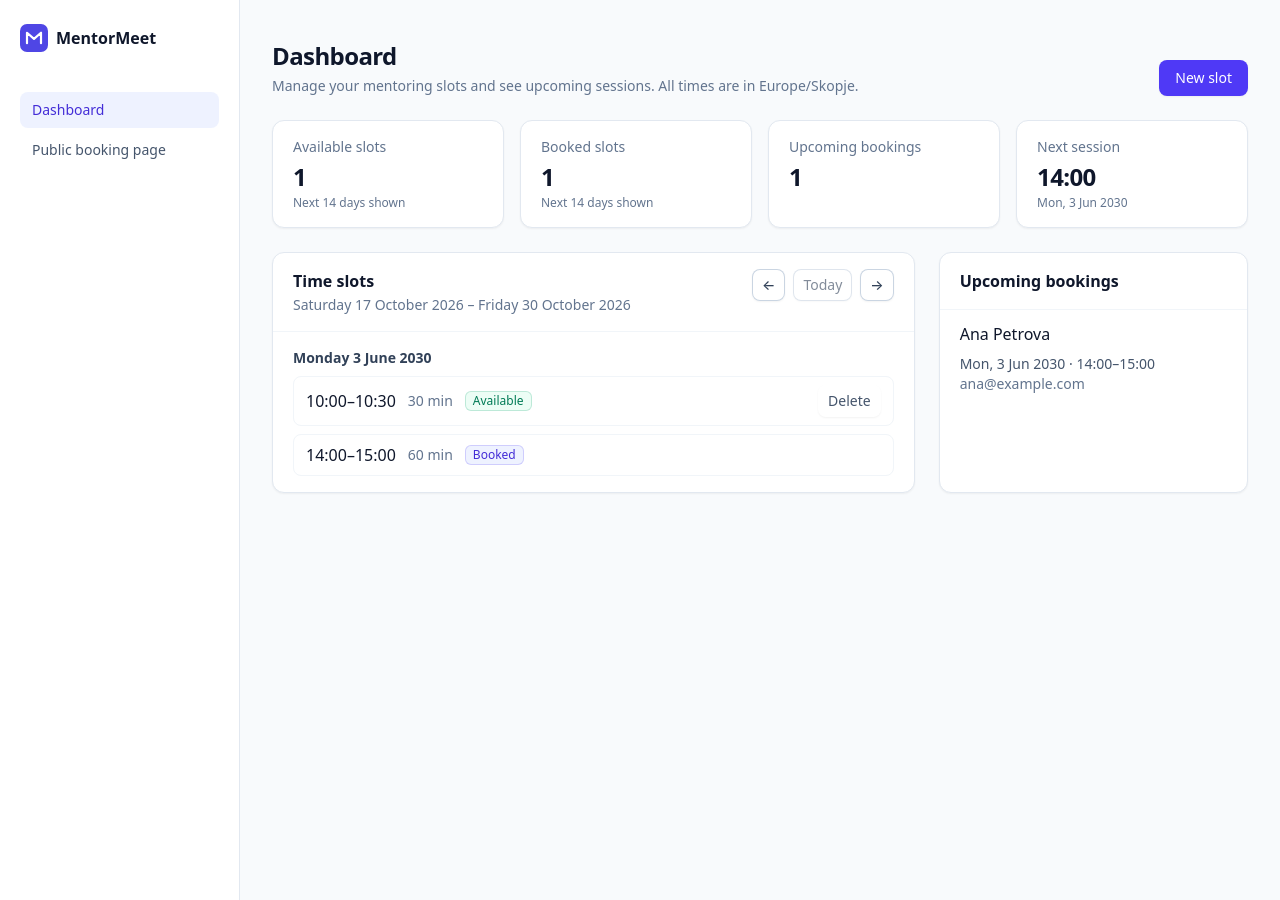
Test: DashboardPage › deletes an available slot after confirmation
This screenshot has width=1280, height=900.
Expected: the text "10:00–10:30" is shown, [306, 389, 396, 413]
Click the button with aria-label "Delete slot": click(849, 401) [818, 385, 881, 417]
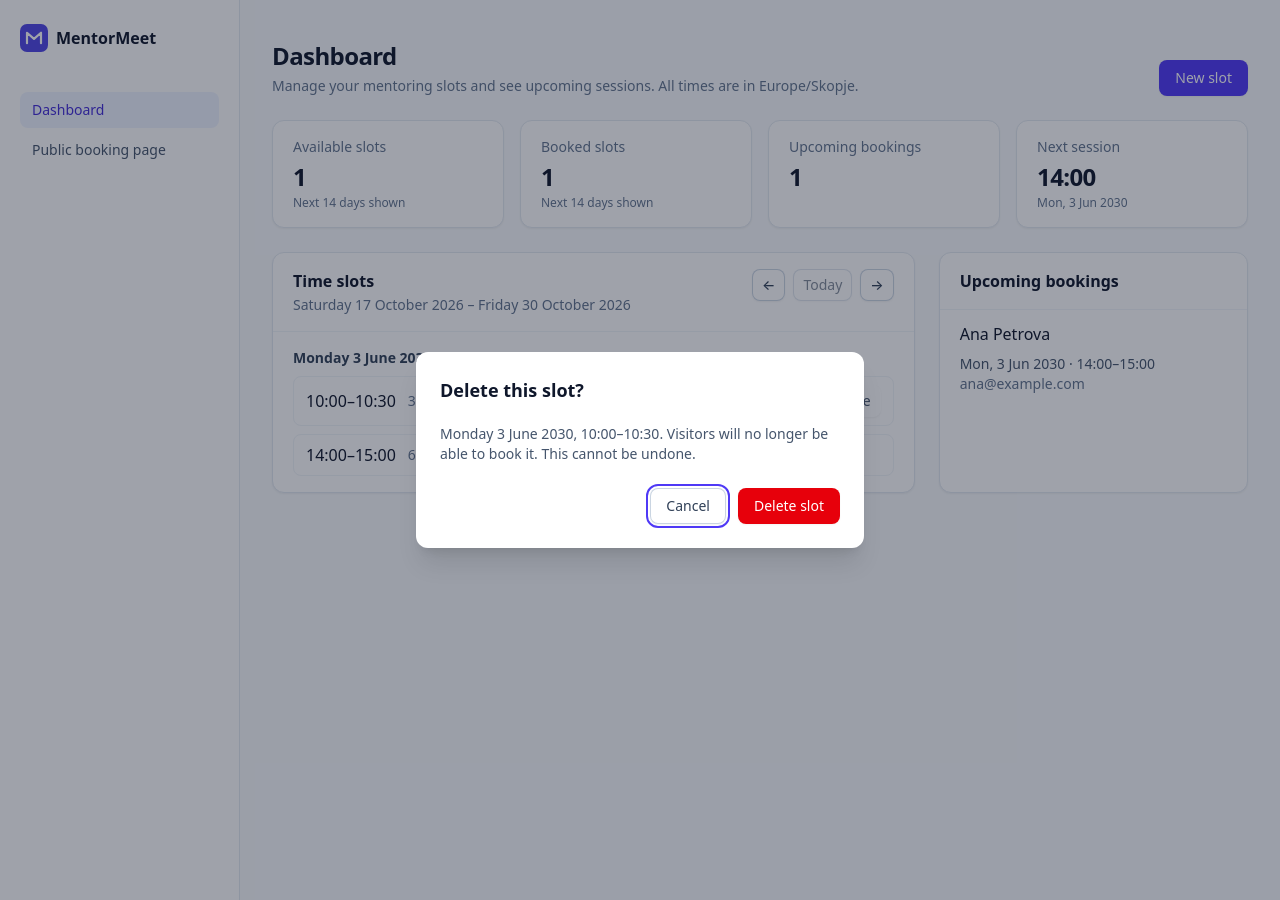
Click the button "Delete slot": click(789, 506) [738, 488, 840, 524]
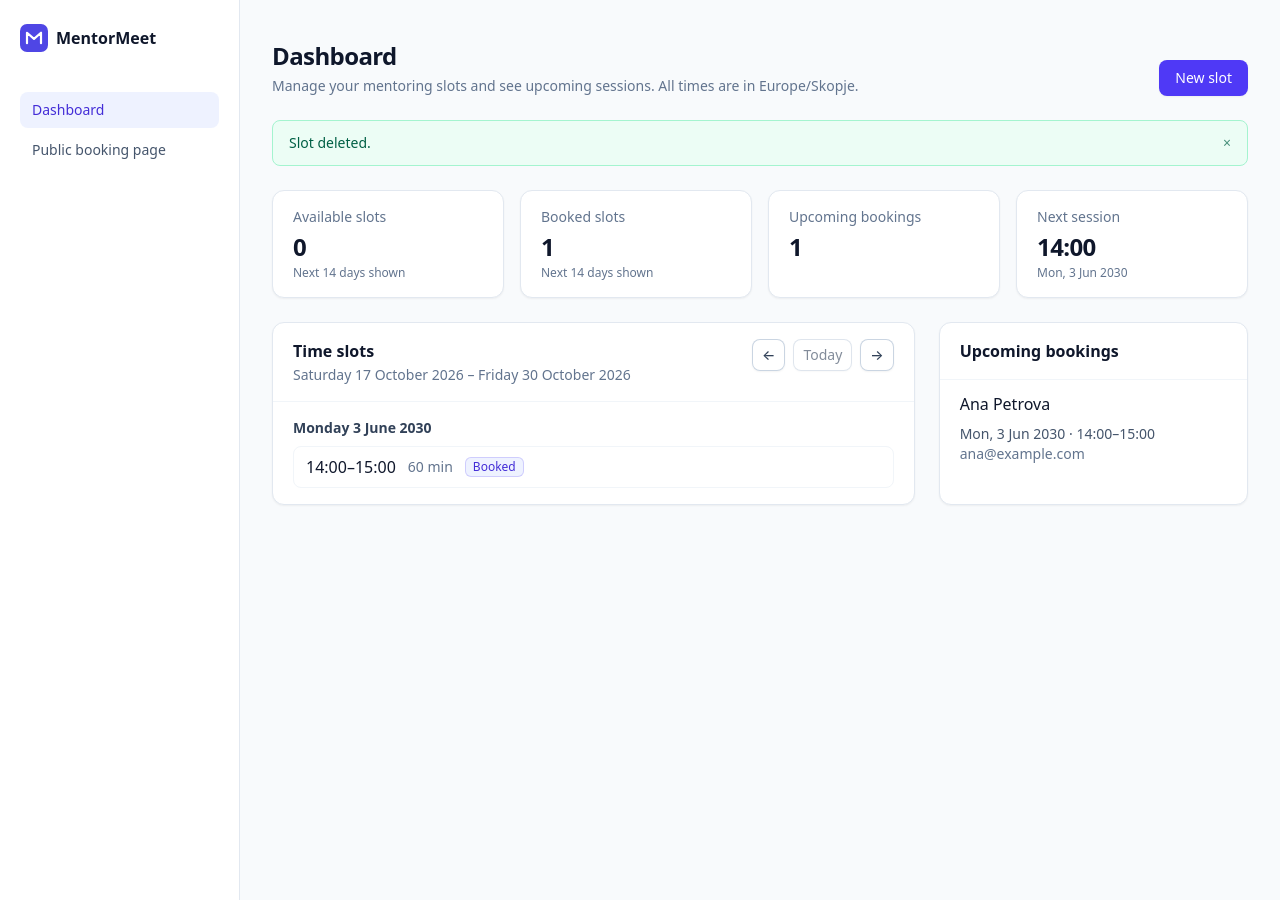
Expected: the text "Slot deleted." is shown, [289, 133, 371, 152]
Expected: the text "10:00–10:30" is gone
